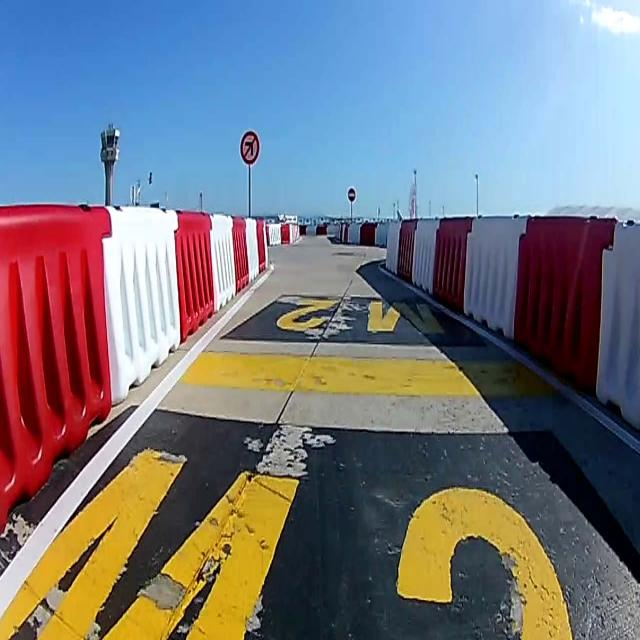girisyok: (347, 188, 355, 202)
soladonulmez: (240, 130, 259, 164)
